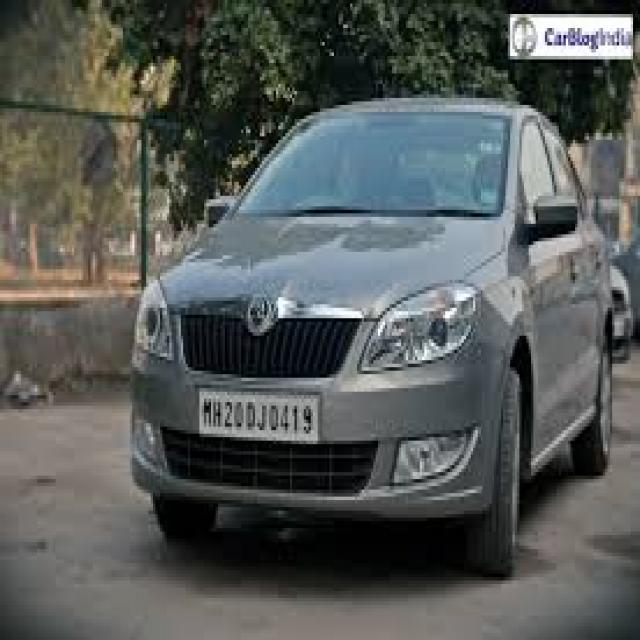Number-Plate: (199, 390, 318, 441)
